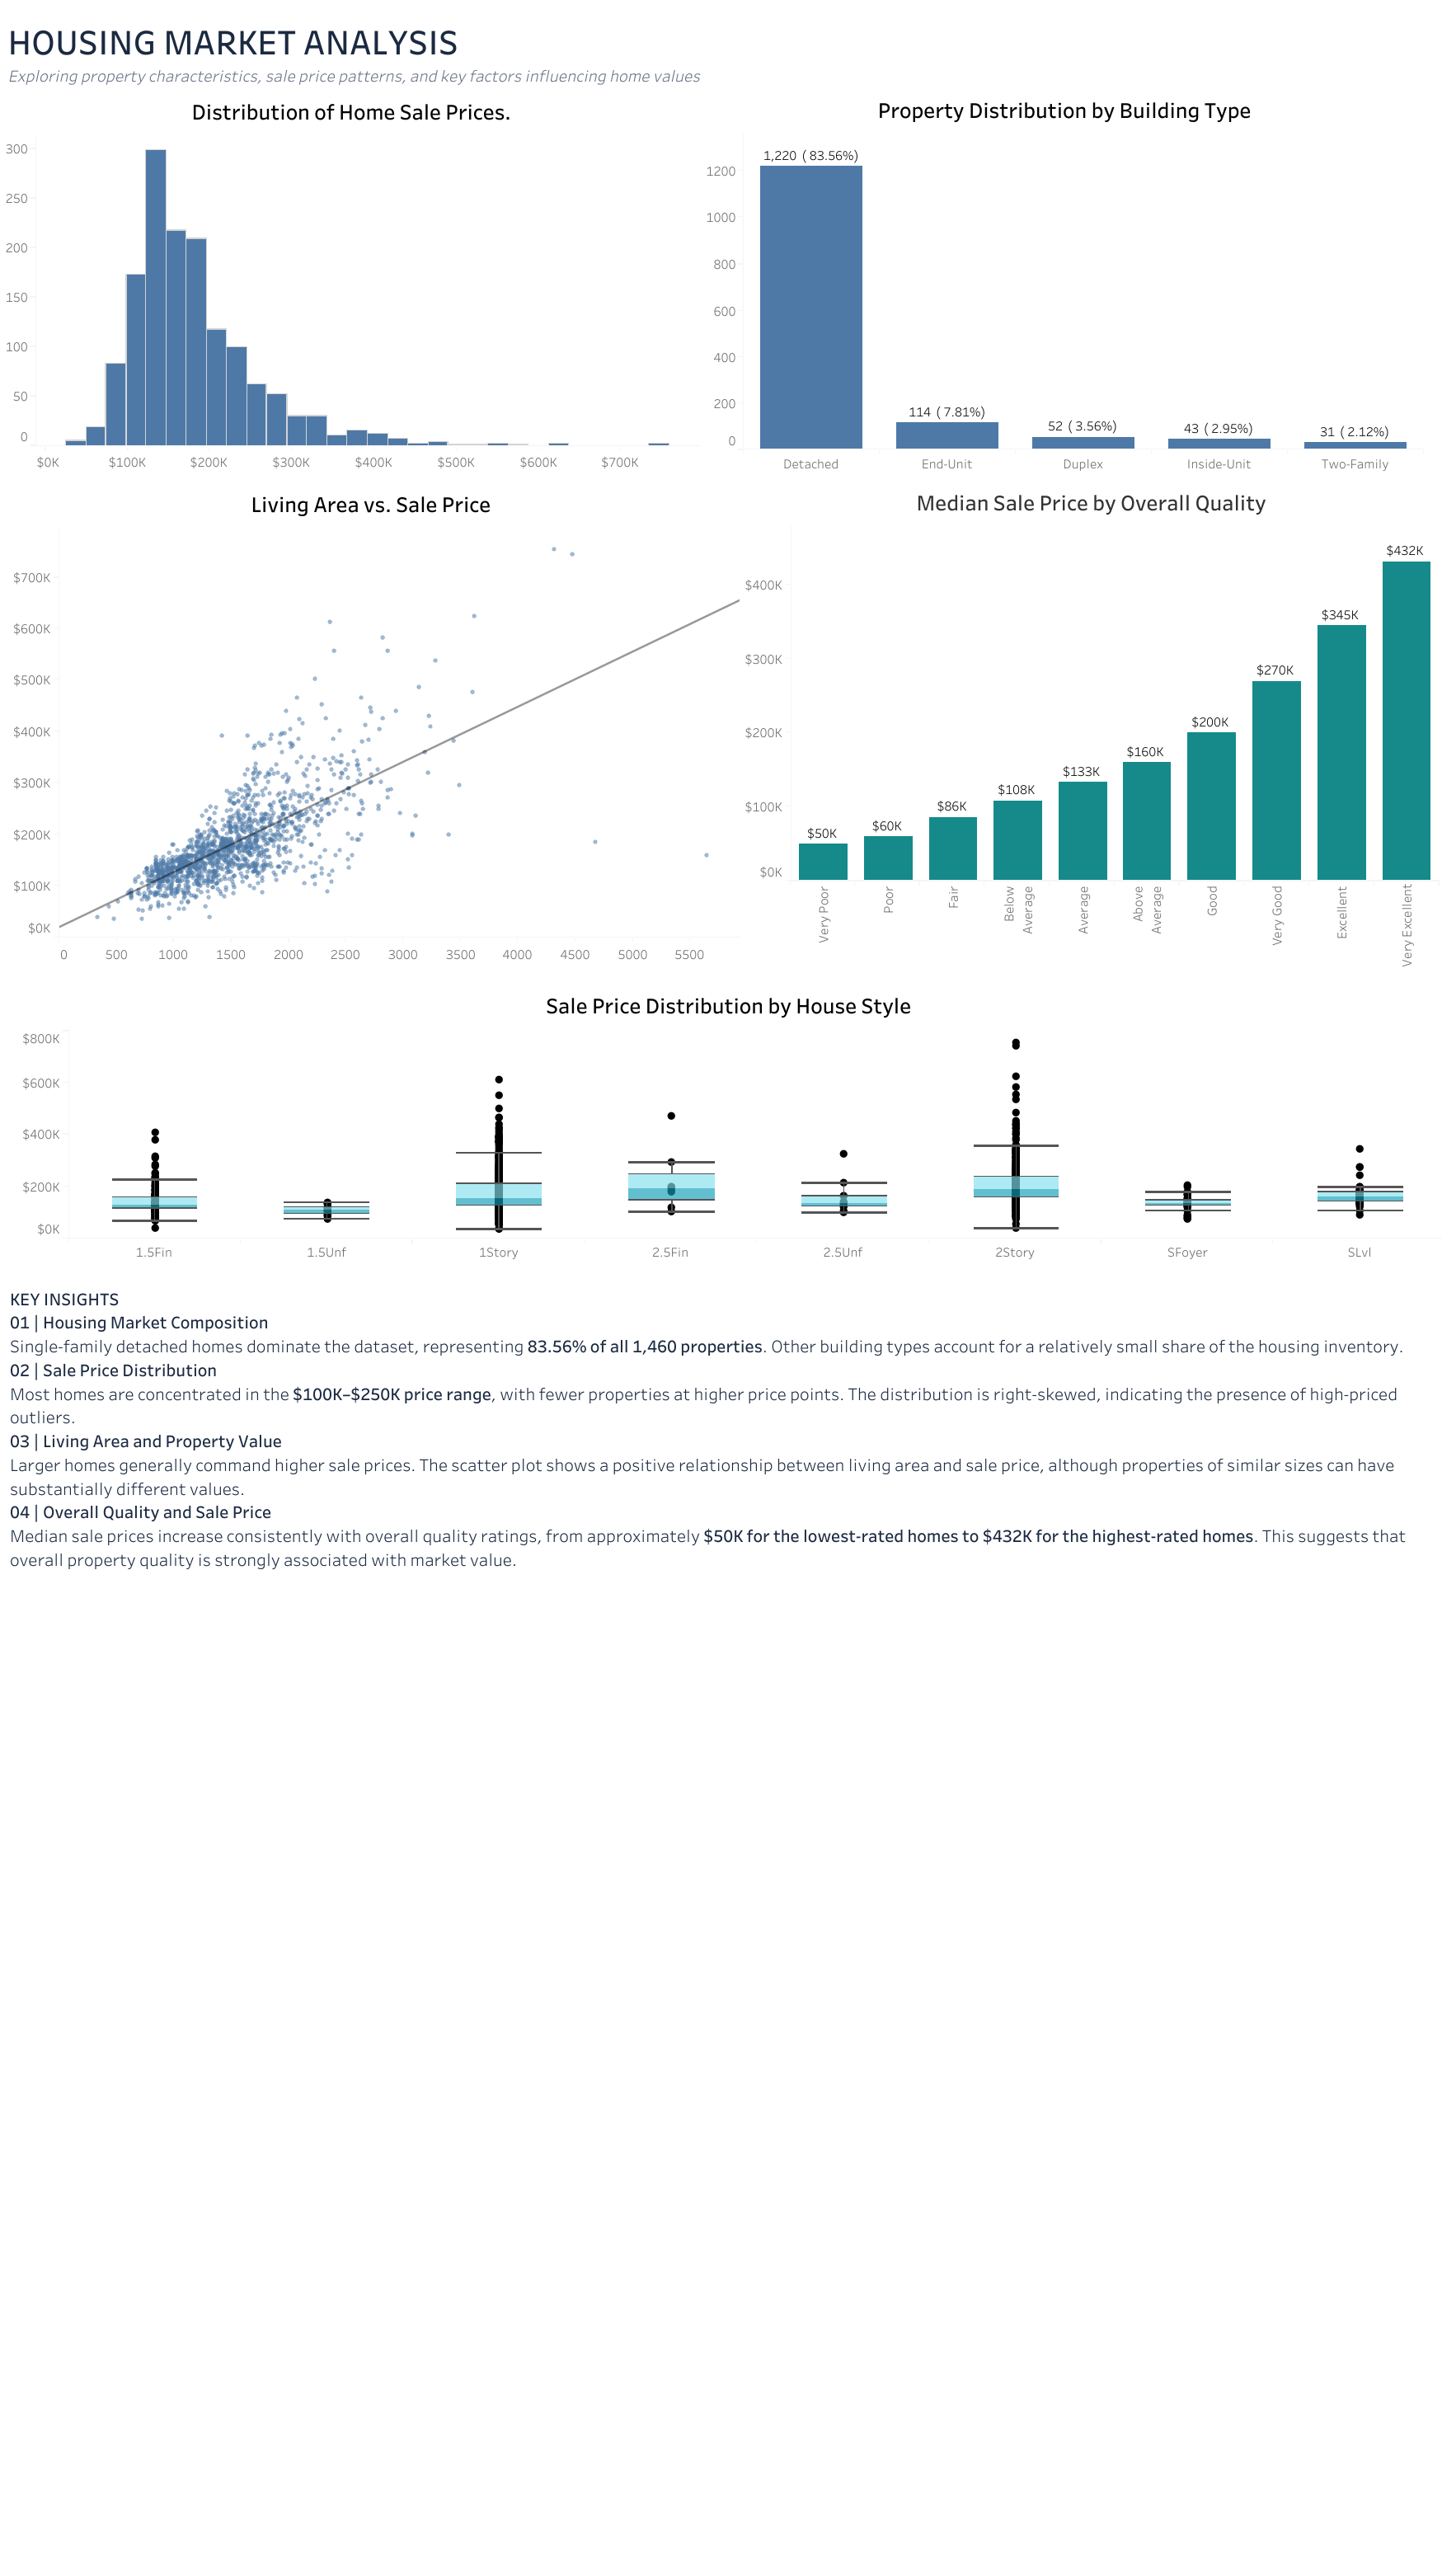

The dashboard page shown, as its layout file describes it:
{"tool":"tableau","page":{"name":"Housing Market Analysis","canvas":[1400,1500],"ordinal":0},"visuals":[{"type":"text","box":[5,4.5,1397,51]},{"type":"worksheet","title":"Home Count","mark":"Automatic","rows":["HomePrices_3E1B55E7992E49FF9428DCB98415558E"],"cols":["BldgType"],"box":[685,51.5,696,223]},{"type":"worksheet","title":"Sale Price","mark":"Automatic","rows":["SalePrice"],"cols":["Sale Price (bin)"],"box":[4,52.5,674,224.5]},{"type":"worksheet","title":"Median Sale Price by Overall Quality","mark":"Automatic","rows":["SalePrice"],"cols":["OverallQual"],"box":[722,280,674,283.5]},{"type":"worksheet","title":"Area vs Sales Price","mark":"Automatic","rows":["SalePrice"],"cols":["GrLivArea"],"box":[2,281.5,716,283]},{"type":"worksheet","title":"House v/s sale price","mark":"Circle","rows":["SalePrice"],"cols":["HouseStyle"],"box":[11,573,1392,160.5]},{"type":"text","box":[7,739,1390,185]}]}

Visuals, with their boxes on the page's 1400x1500 design canvas (x1, y1, x2, y2). These are canvas units, not pixel positions in the 1442x2576 screenshot, which may show the page scaled, cropped or inside an application window:
text: [5, 4, 1402, 56]
"Home Count" worksheet: [685, 52, 1381, 274]
"Sale Price" worksheet: [4, 52, 678, 277]
"Median Sale Price by Overall Quality" worksheet: [722, 280, 1396, 564]
"Area vs Sales Price" worksheet: [2, 282, 718, 564]
"House v/s sale price" worksheet (Circle marks): [11, 573, 1403, 734]
text: [7, 739, 1397, 924]
